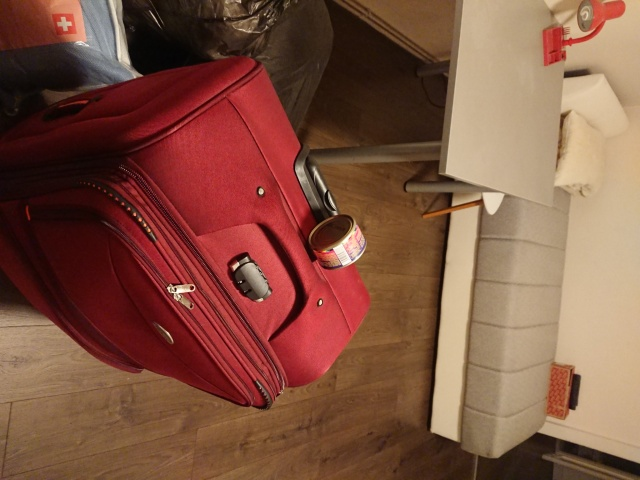Giana Tuna Salad Mexico 185g: (307, 212, 369, 272)
